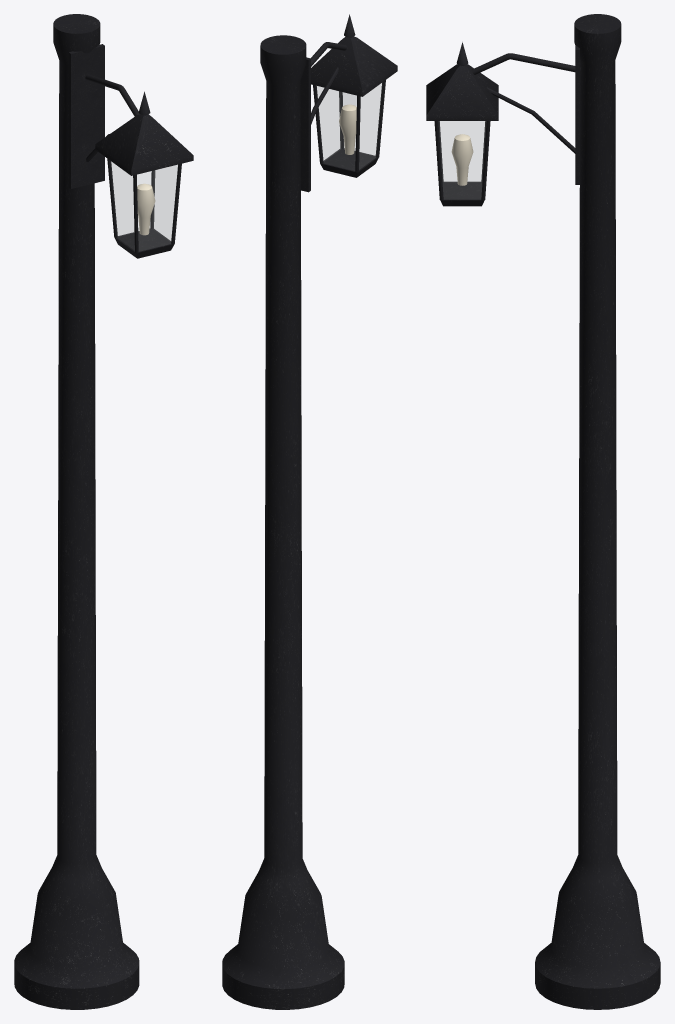
File: SM_QUE_LampPost.fbx
3 renders of one model, left to right at view 1: azimuth 30°, elevation 25°; view 2: azimuth 150°, elevation 25°; view 3: azimuth 270°, elevation 25°, orthographic. The views are drawn at different scales.
Visible parts, largest first — view 1: SM_QUE_LampPost; view 2: SM_QUE_LampPost; view 3: SM_QUE_LampPost.
Boxes of the visible parts, x1,y1,x2,y2 form: SM_QUE_LampPost: (14,14,193,1009); SM_QUE_LampPost: (222,14,397,1009); SM_QUE_LampPost: (426,14,660,1009).
Bounding box in the file's own units: 0.32 × 2.7 × 0.5969.
